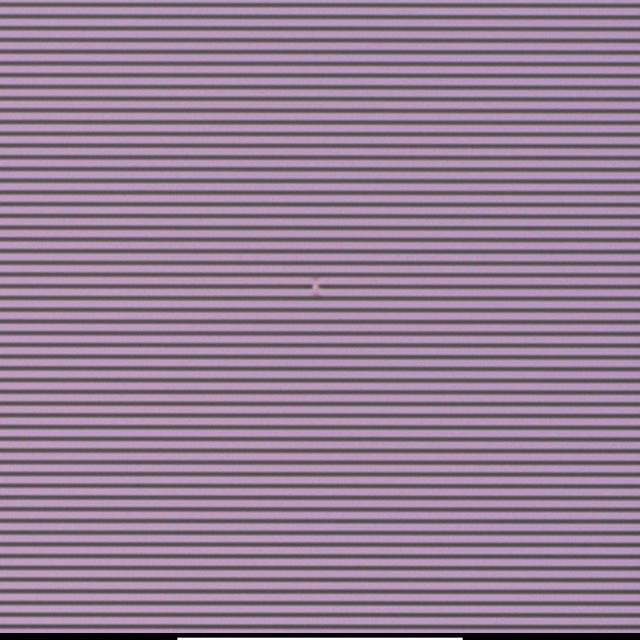03_intrusion: (310, 277, 322, 298)
